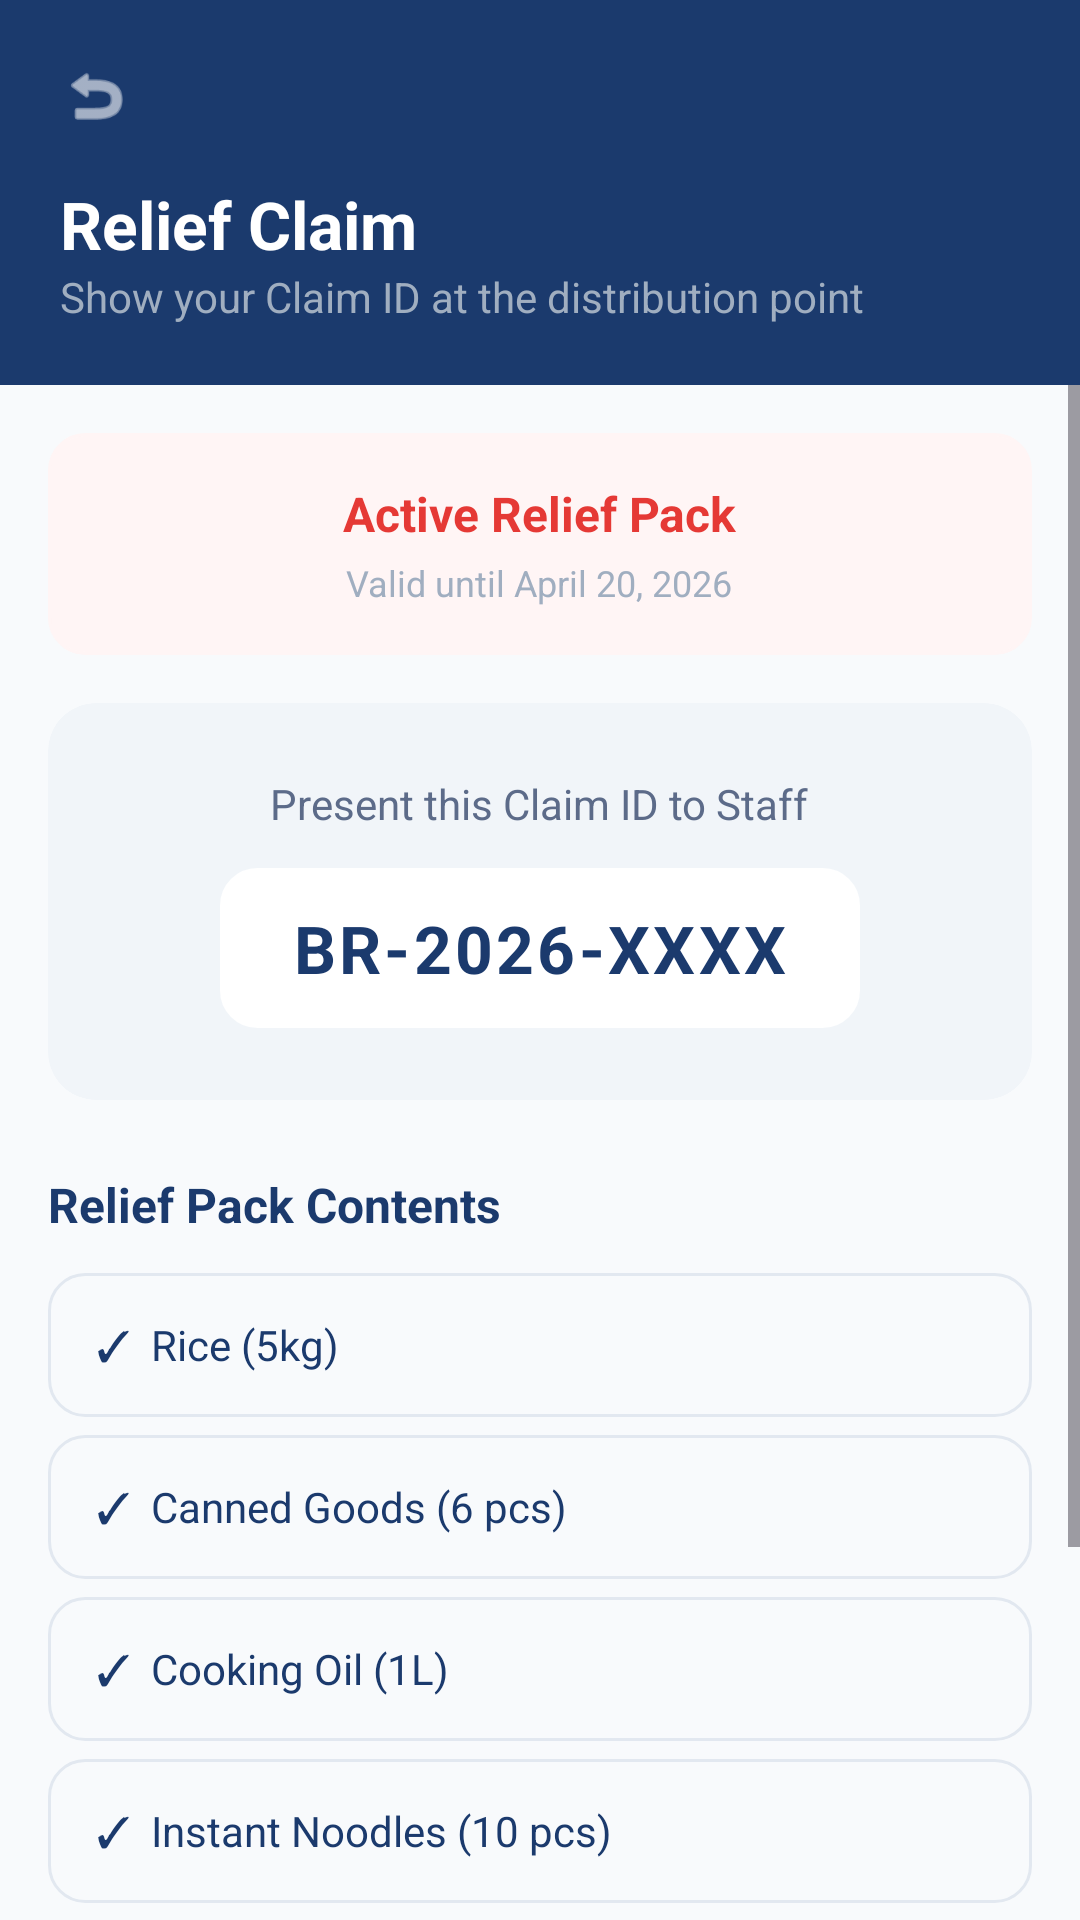

Icons on this 1080px×1920px Android screen, each with the point to tap as (x=x, y=y):
revert: (x=97, y=96)
